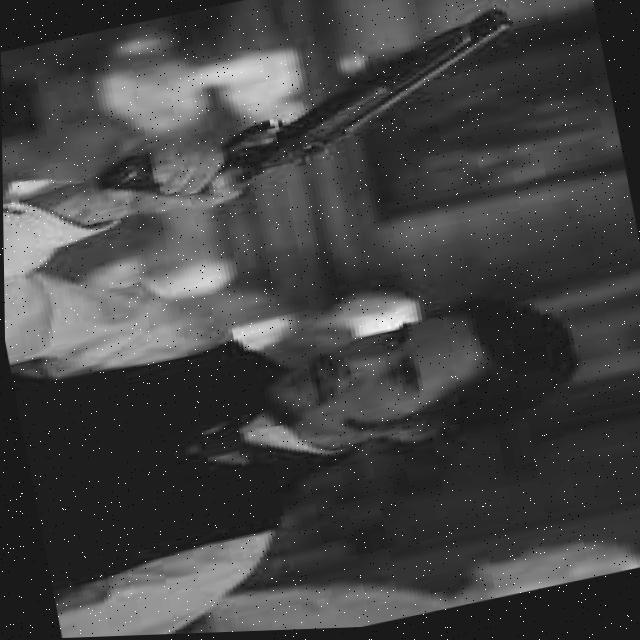firearm: (88, 10, 532, 213)
